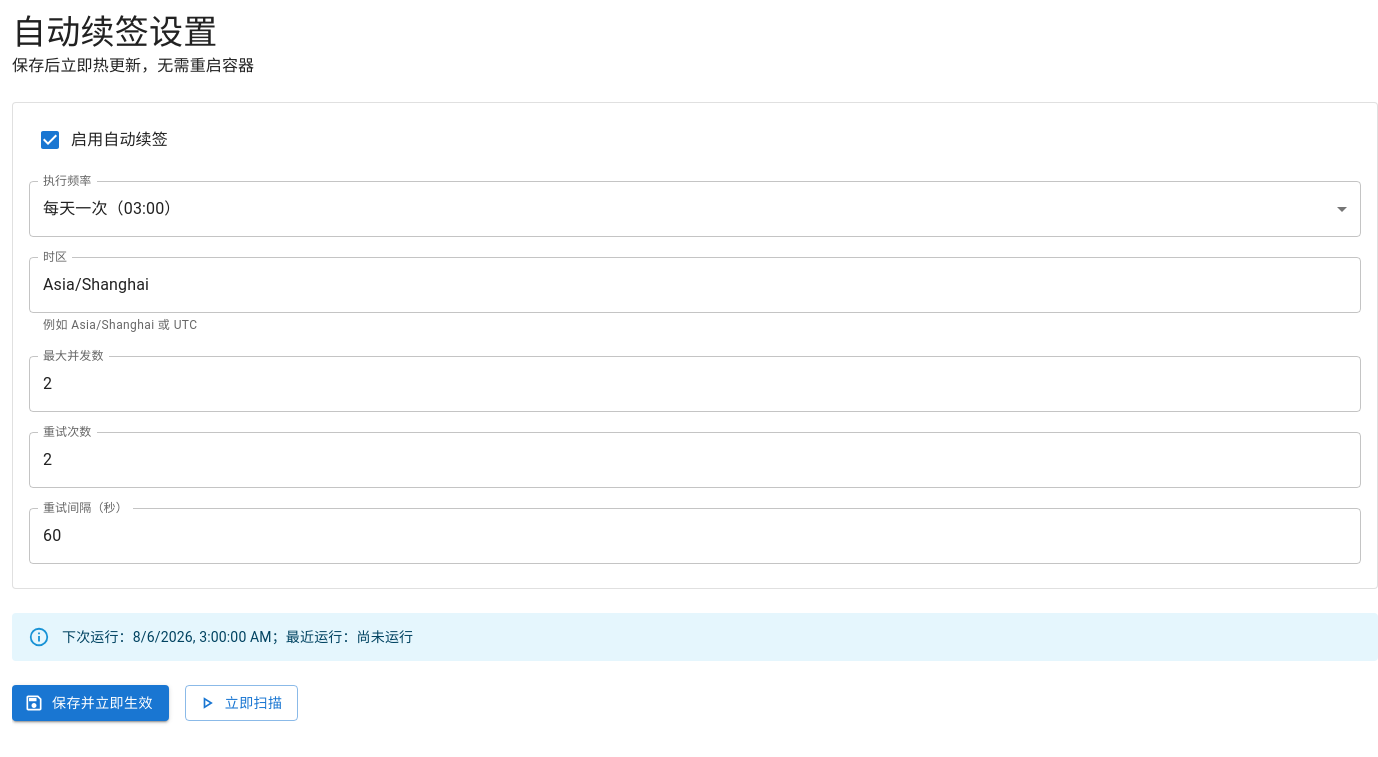
Test: 自动续签配置保存后显示立即生效
This screenshot has width=1378, height=757.
What coordinates should you click on to do the following:
click the button "保存并立即生效"
I would click on:
 (90, 703)
Its box is [12,685,169,721].
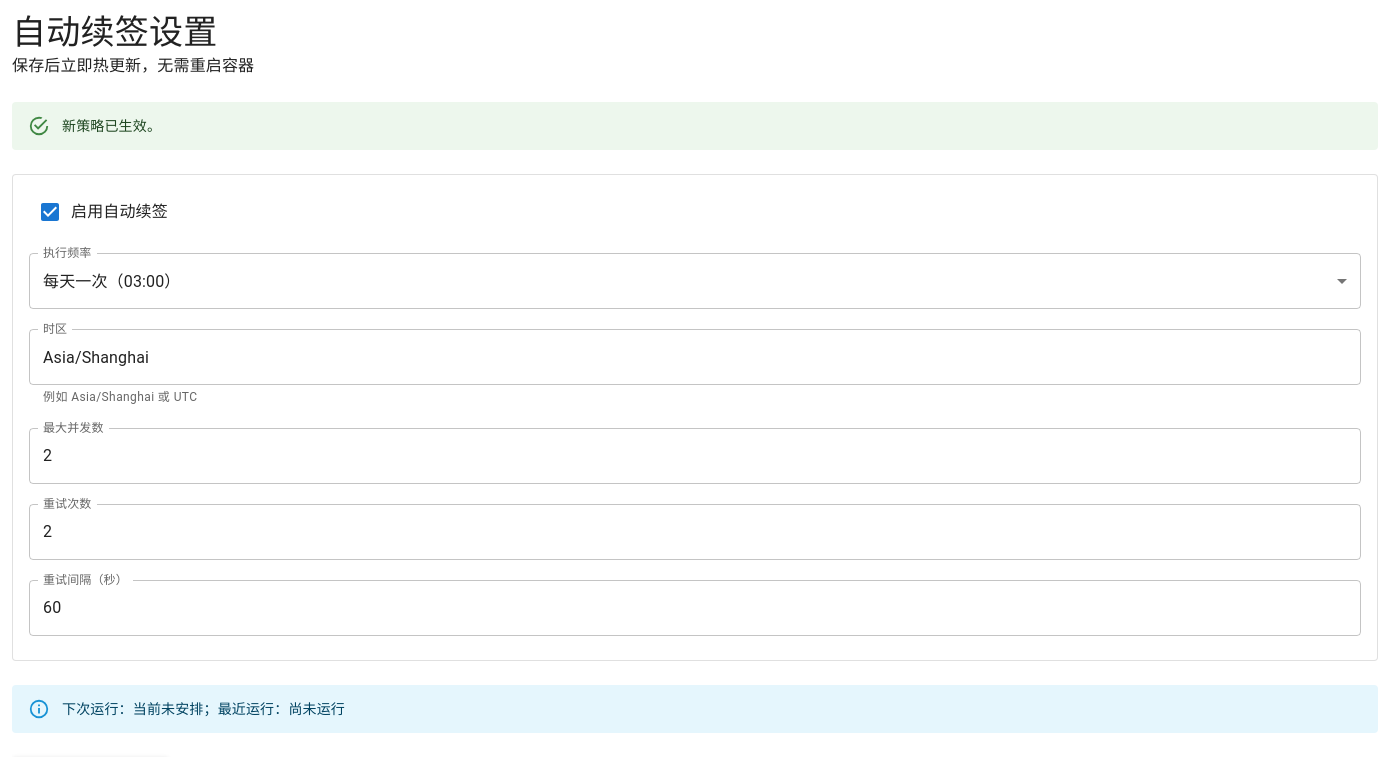
Check: the text "新策略已生效。" is shown, box [62,118,161,134]
